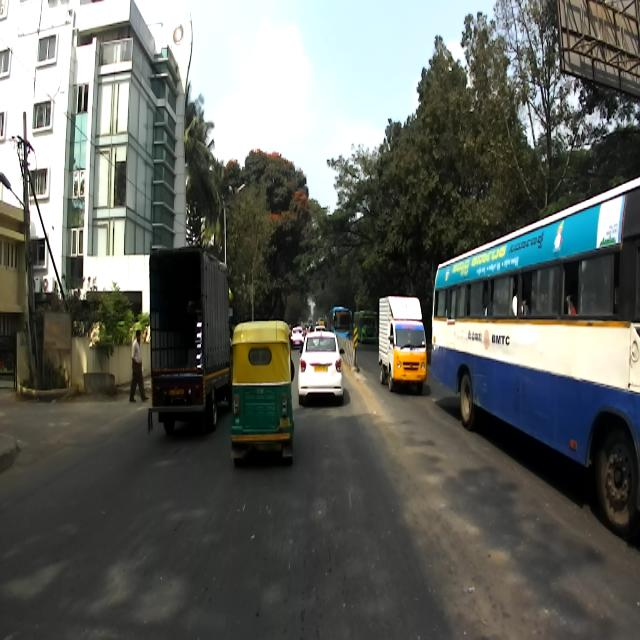auto ahead at: (232, 324, 298, 461)
car ahead at: (304, 331, 344, 401)
electric pole ahead at: (11, 109, 56, 391)
person ahead at: (126, 326, 148, 404)
truck ahead at: (146, 241, 230, 421), (380, 294, 429, 396)
